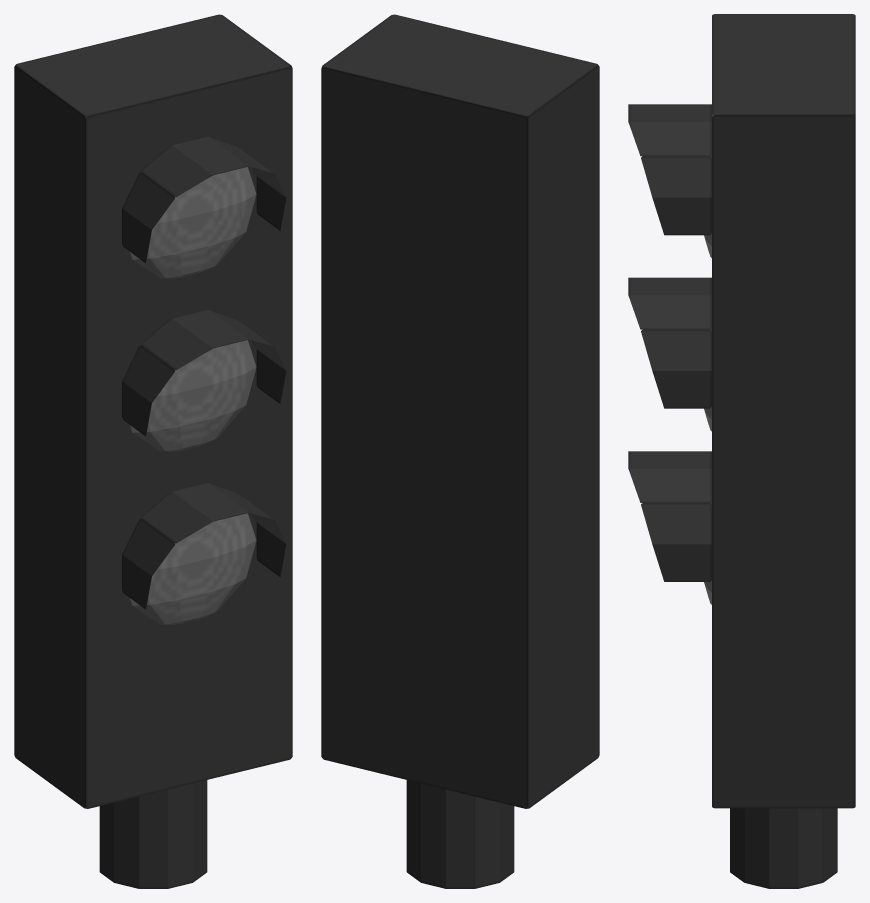
File: nyc_subway_signal_light_1r.obj
3 views of the same model, side by side, from view 1: azimuth 30°, elevation 25°; view 2: azimuth 150°, elevation 25°; view 3: azimuth 270°, elevation 25° (orthographic).
Visible parts, largest first — view 1: box, light, shade, pole; view 2: box, pole; view 3: box, shade, pole.
Part boxes in pixels (bbox=[...]): box: bbox=[14, 14, 292, 808]; light: bbox=[130, 167, 256, 624]; shade: bbox=[122, 136, 286, 609]; pole: bbox=[99, 780, 207, 888]; box: bbox=[321, 14, 599, 808]; pole: bbox=[406, 780, 514, 888]; box: bbox=[712, 14, 855, 808]; shade: bbox=[628, 104, 711, 581]; pole: bbox=[730, 808, 837, 888].
Size of the model in its own units: 0.3125 by 1.16 by 0.2969.
1 material, 1 textured.
